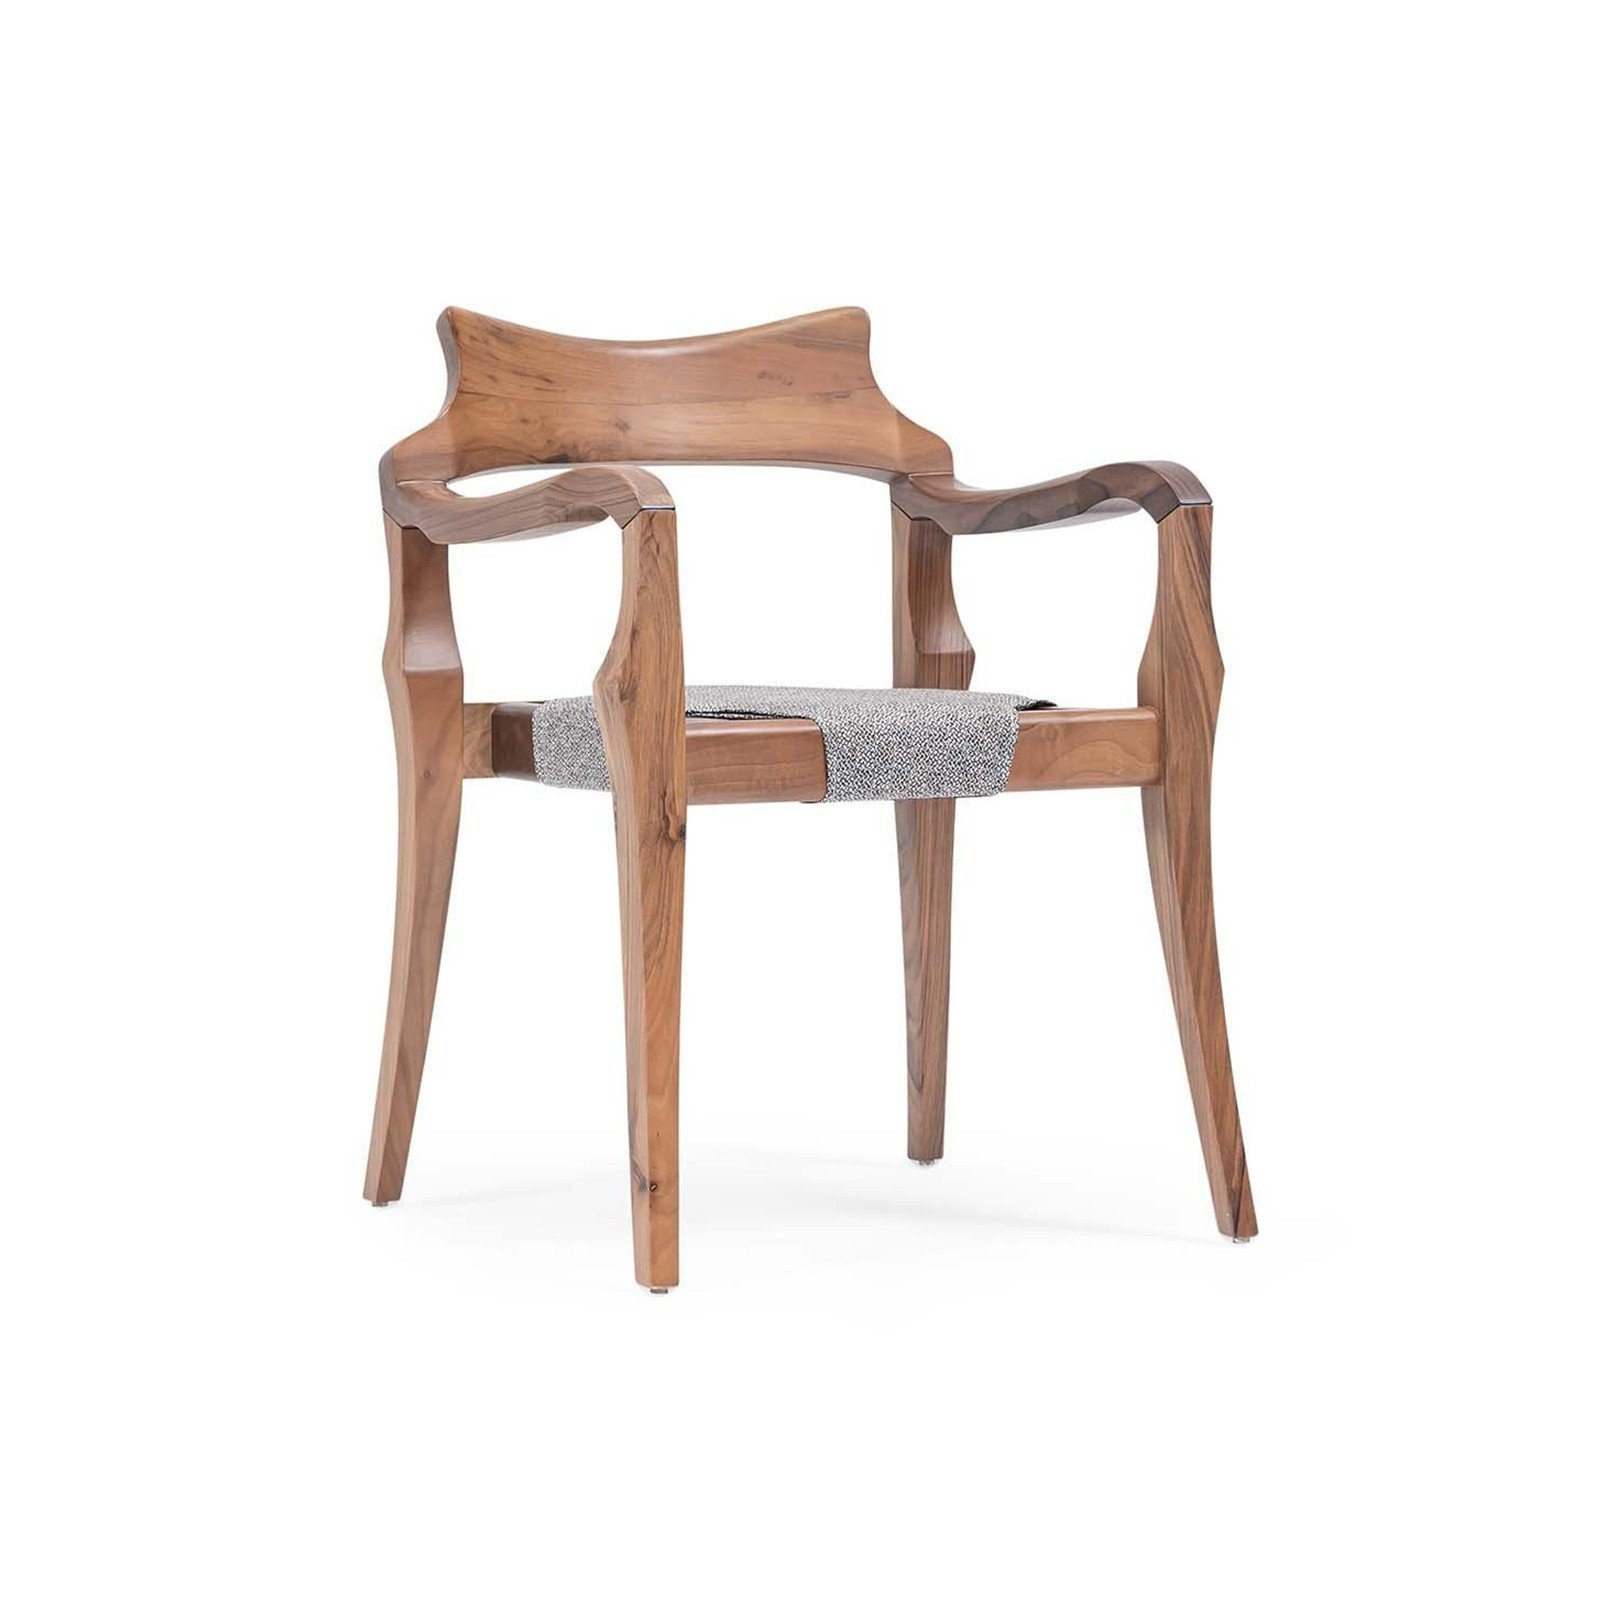chair: (362, 299, 1284, 1288)
